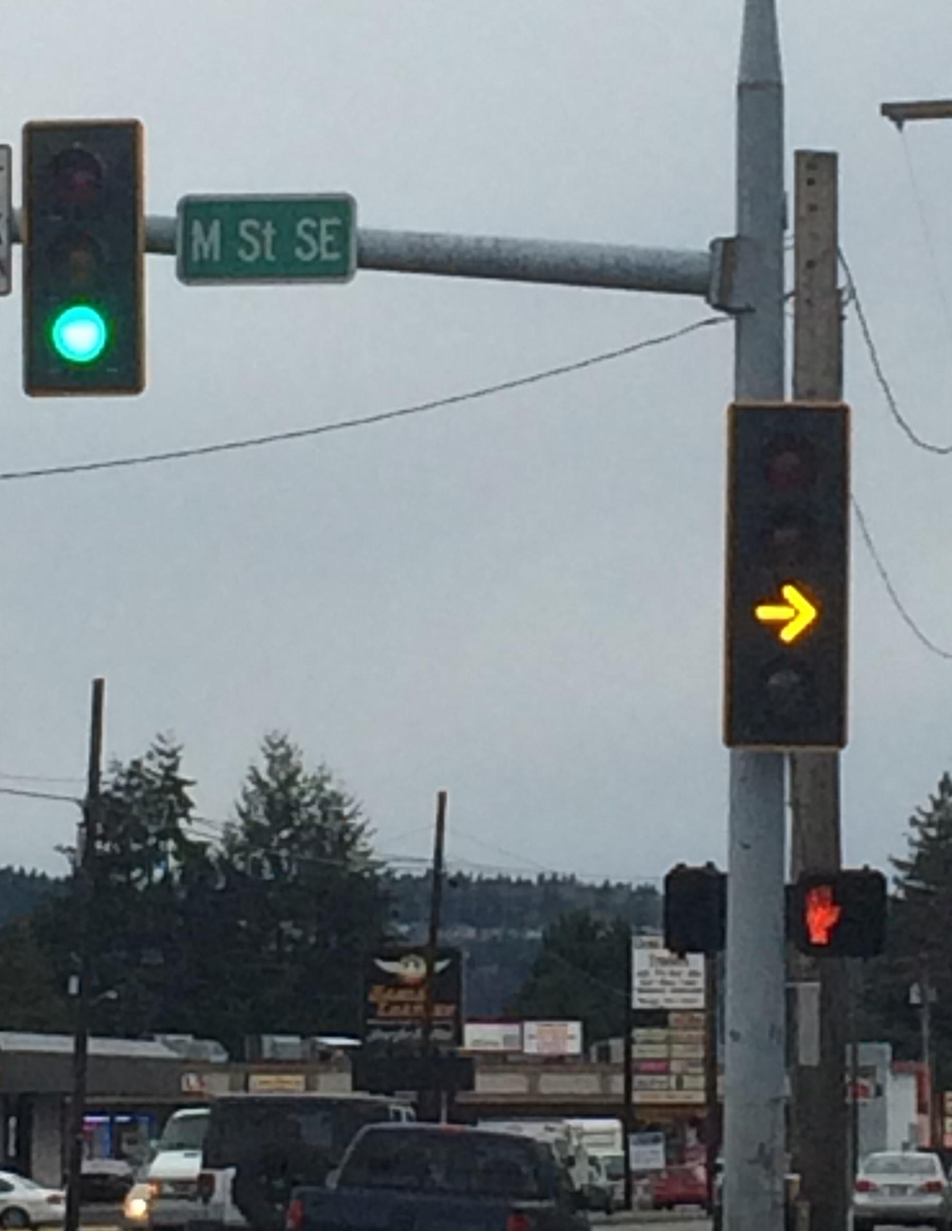Traffic light green: (18, 113, 144, 397)
